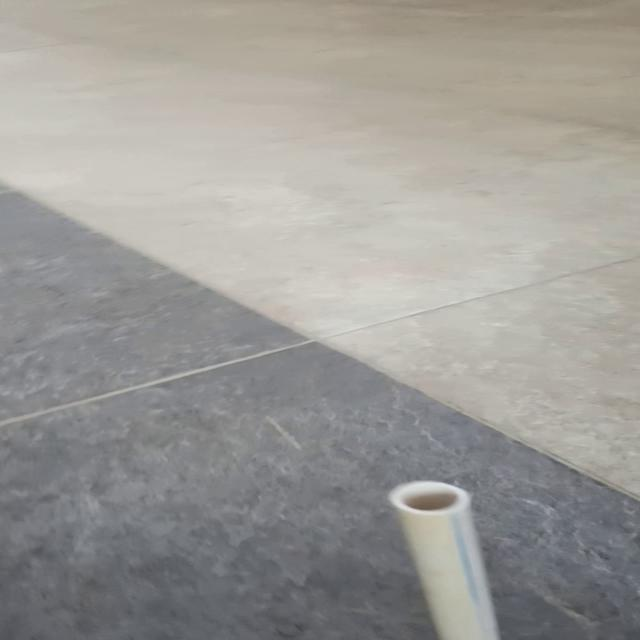Cube: (386, 479, 500, 638)
